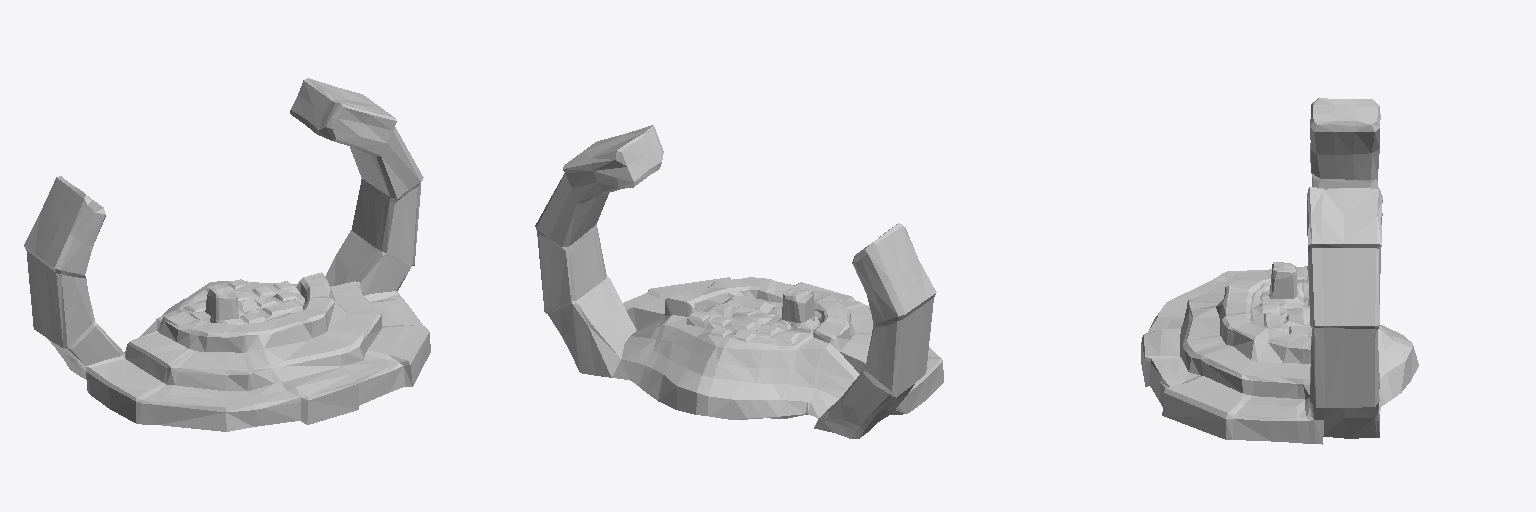
Rendered from portal.obj.
The picture shows the model from 3 angles: view 1: azimuth 30°, elevation 25°; view 2: azimuth 150°, elevation 25°; view 3: azimuth 270°, elevation 25°; orthographic projection.
Visible parts, largest first — view 1: Ruin_Retopolo_Plane; view 2: Ruin_Retopolo_Plane; view 3: Ruin_Retopolo_Plane.
Boxes of the visible parts, x1=… form: Ruin_Retopolo_Plane: x1=24, y1=78, x2=430, y2=431; Ruin_Retopolo_Plane: x1=535, y1=125, x2=943, y2=438; Ruin_Retopolo_Plane: x1=1141, y1=98, x2=1418, y2=444.
Size of the model in its own units: 4.07 by 2.48 by 2.65.